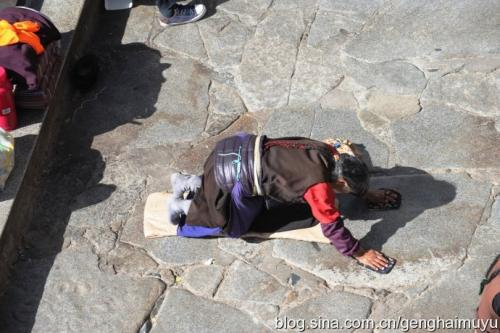fall: (157, 128, 403, 272)
